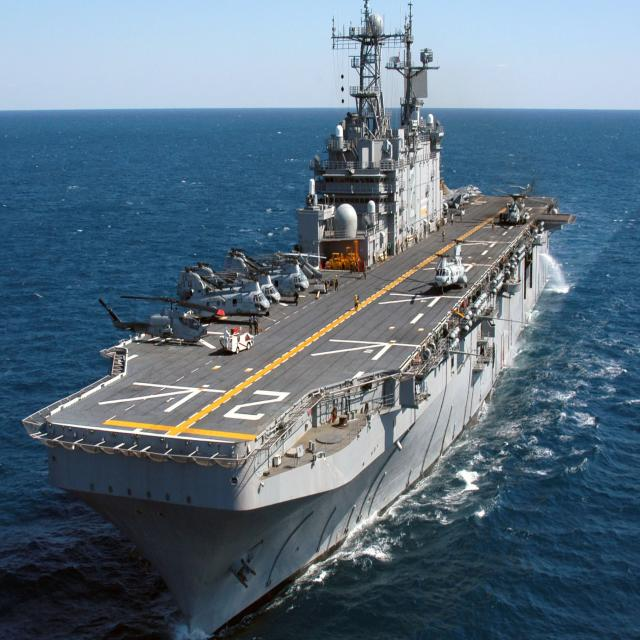navalvessels: (4, 0, 588, 640)
